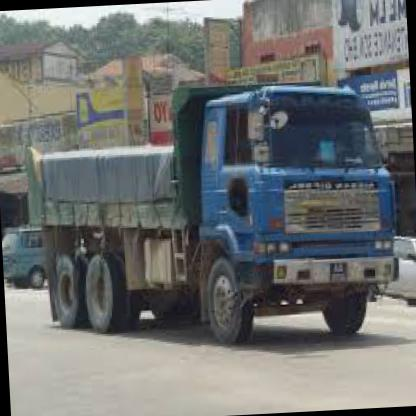truck: (187, 75, 408, 353)
